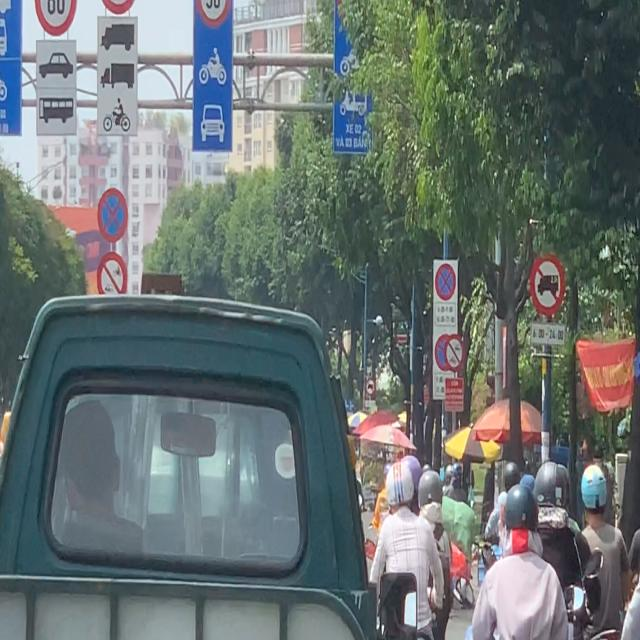Cam con lai: (530, 252, 565, 311), (444, 336, 464, 373)
Cam dung va do: (96, 185, 129, 245), (96, 251, 128, 296), (434, 261, 457, 304)
Toc do toi da: (34, 0, 76, 37), (197, 0, 230, 25)
